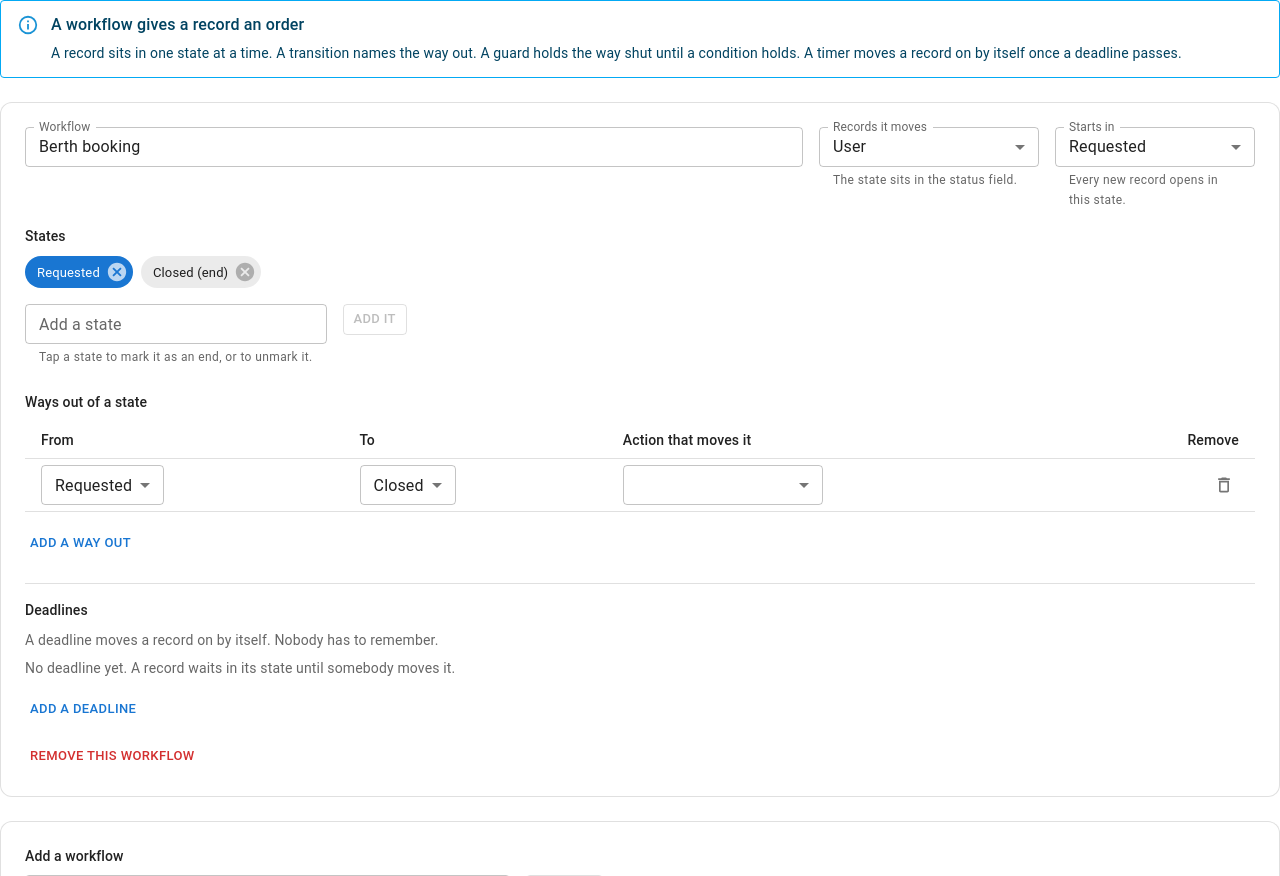
Scenario: the workflow editor over a held workflow › adds a deadline that runs the first action after one day
Step 1. Click the button "Add a deadline" → (83, 709), box x1=25 y1=694 x2=141 y2=725
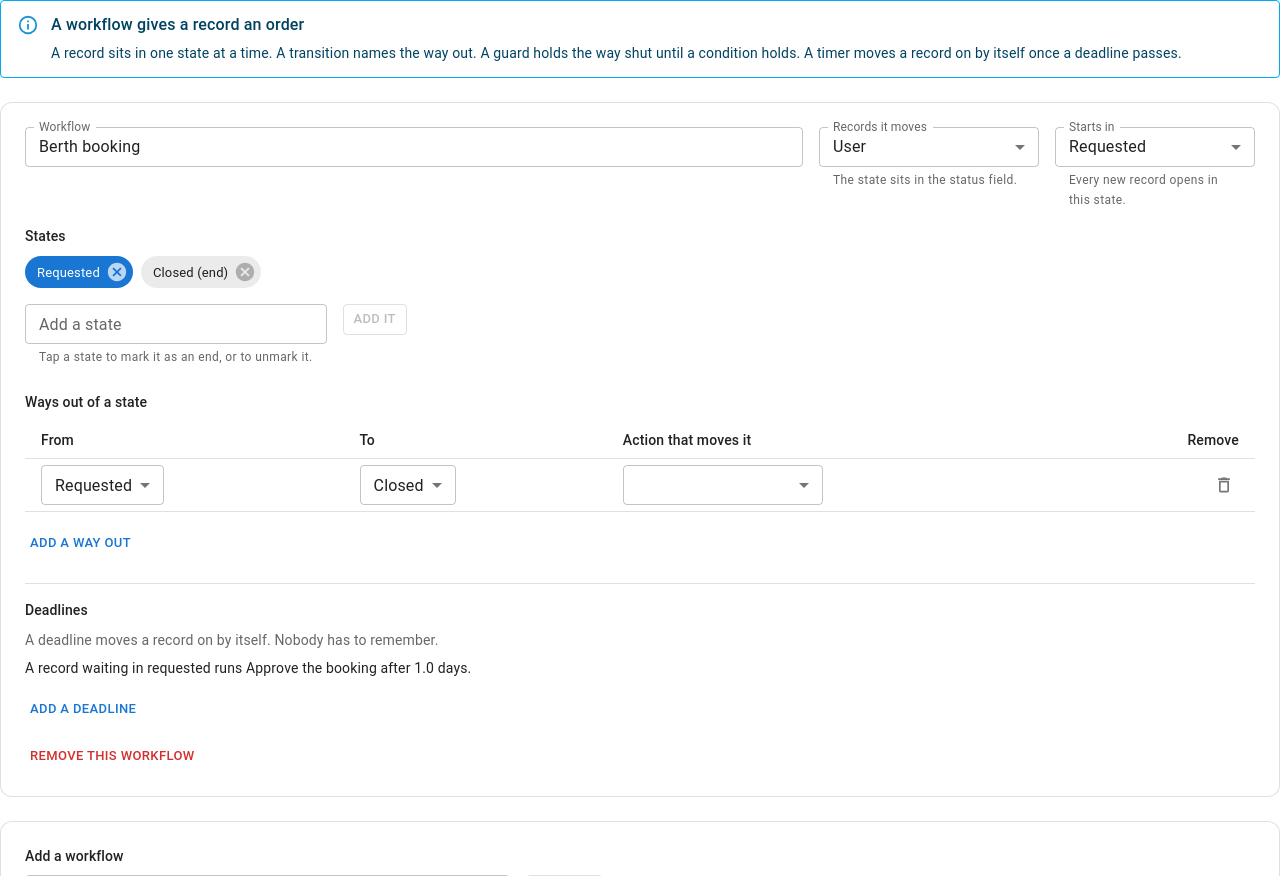
Expected: the text "A record waiting in requested runs Approve the booking after 1.0 days." is shown, x1=25 y1=660 x2=471 y2=676
Expected: the text "No deadline yet. A record waits in its state until somebody moves it." is gone
